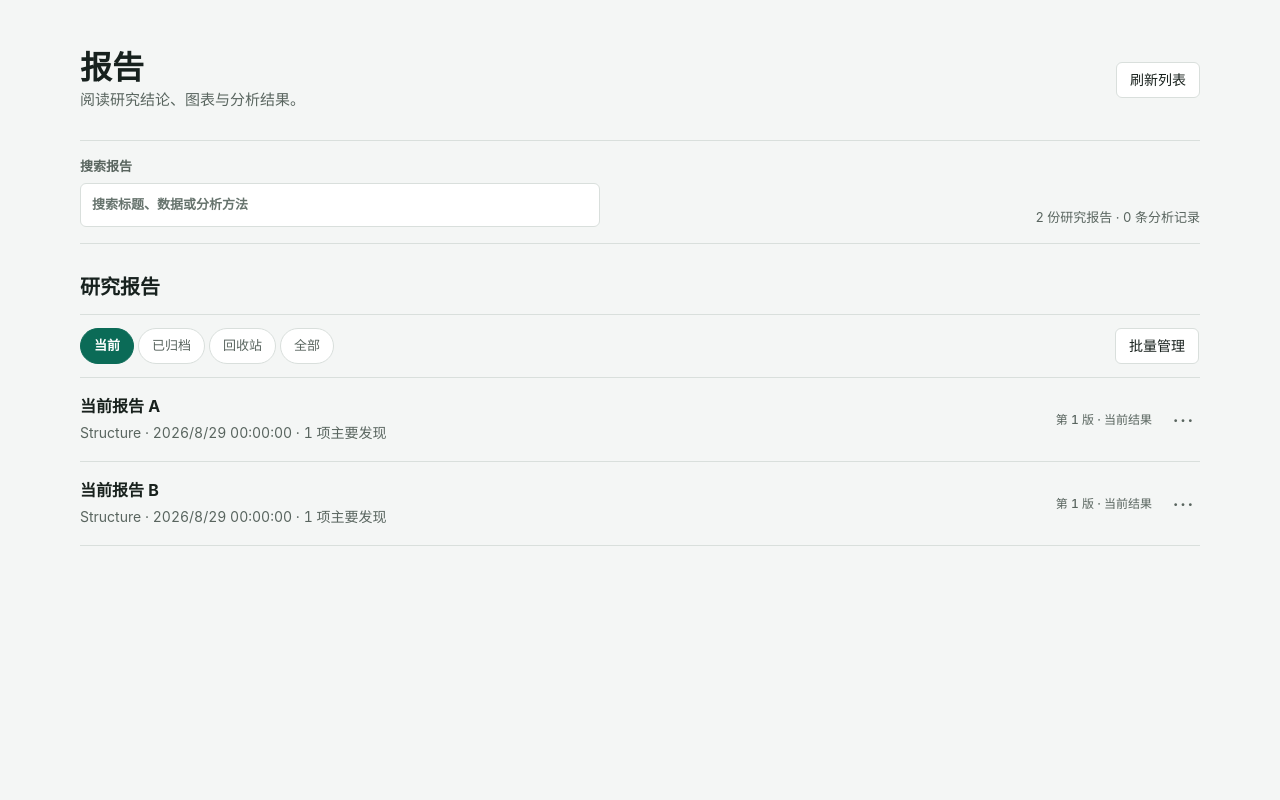
Test: uses one select-all control to select and clear visible reports
Expected: the link "当前报告 A Structure · 2026/8/29 00:00:00 · 1 项主要发现 第 1 版 · 当前结果" is shown, [80,396,1152,441]
Click the button "批量管理": (1157, 346) [1115,328,1199,364]
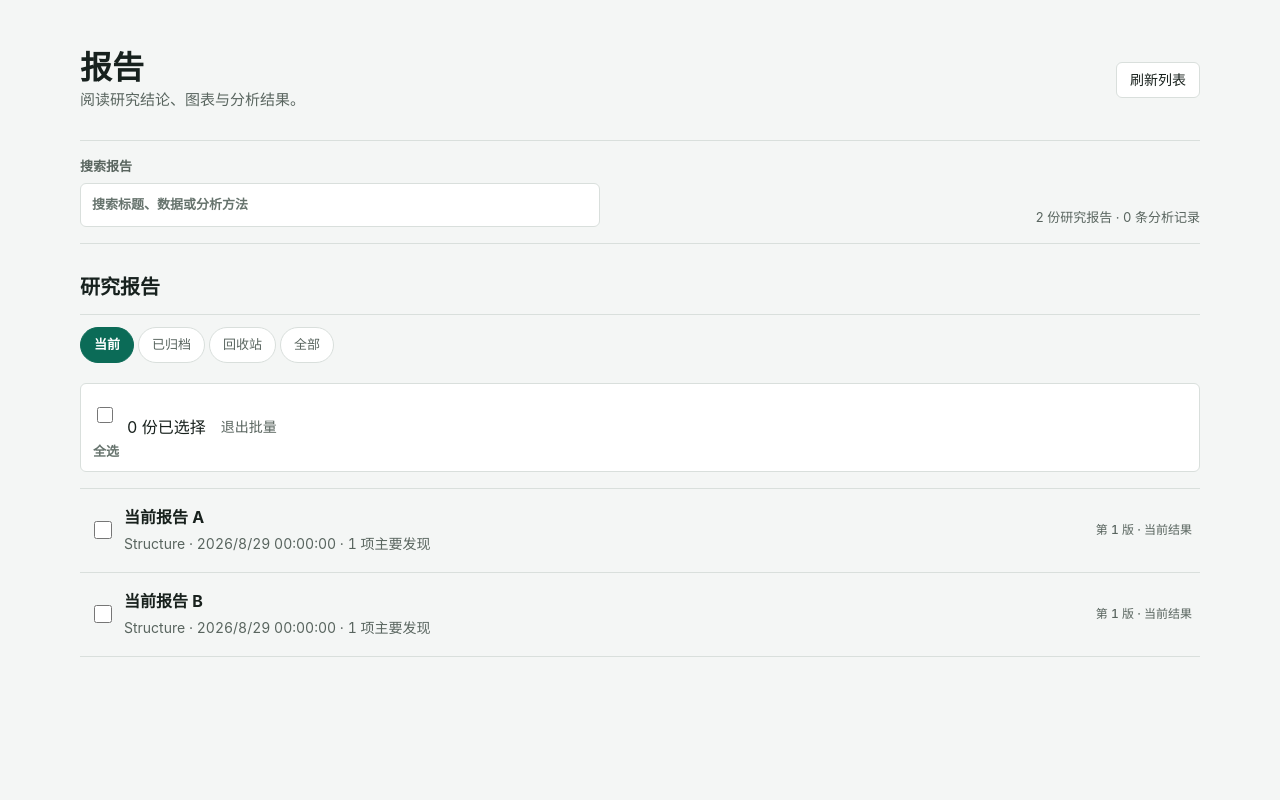
Click the checkbox named "全选可批量操作报告": (105, 415) [97,397,113,433]
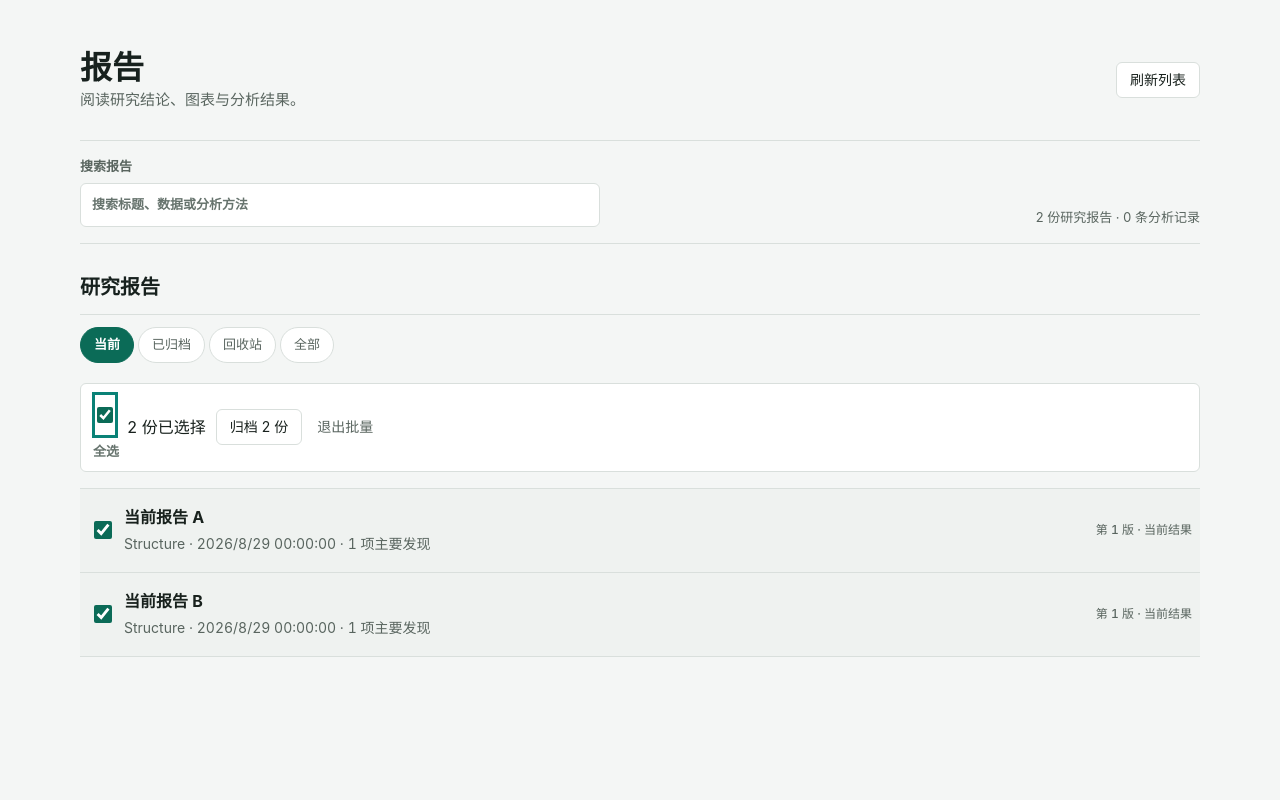
Expected: the text "2 份已选择" is shown, [127,416,206,439]
Click the checkbox named "全选可批量操作报告": (105, 415) [97,397,113,433]
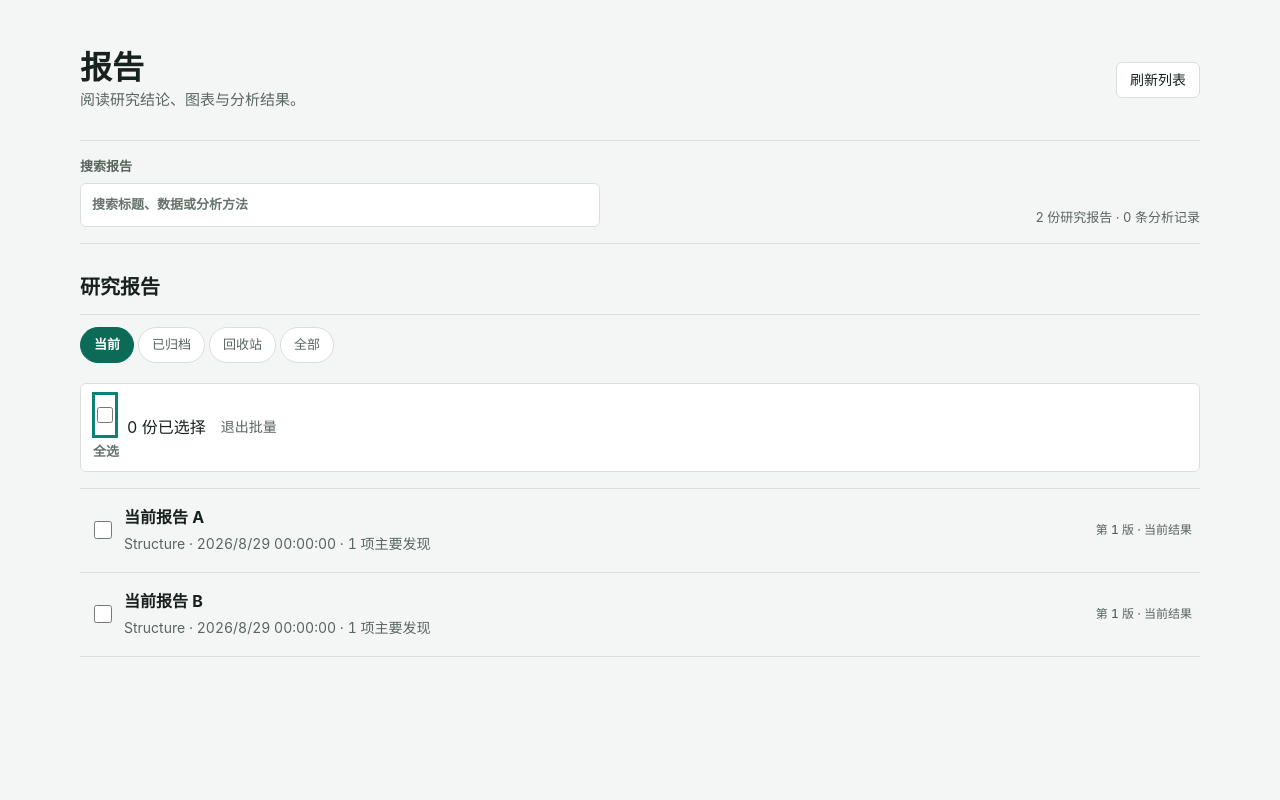
Expected: the text "0 份已选择" is shown, [127,416,206,439]
